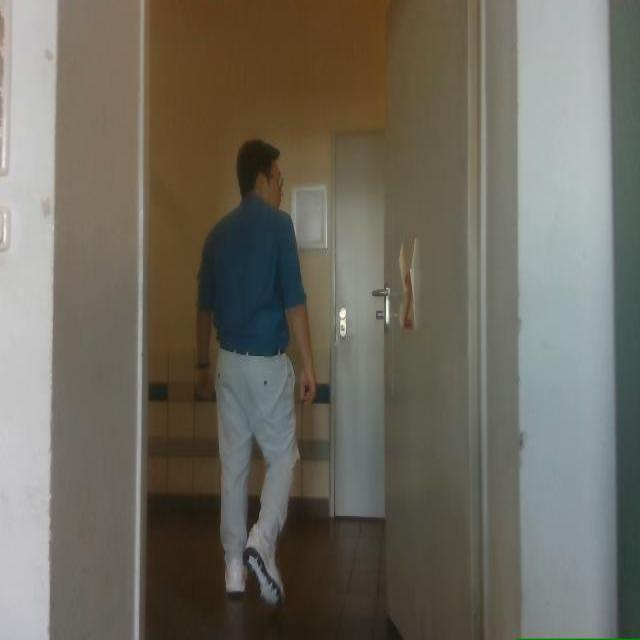humans: (197, 140, 315, 604)
objects: (377, 0, 481, 639)
